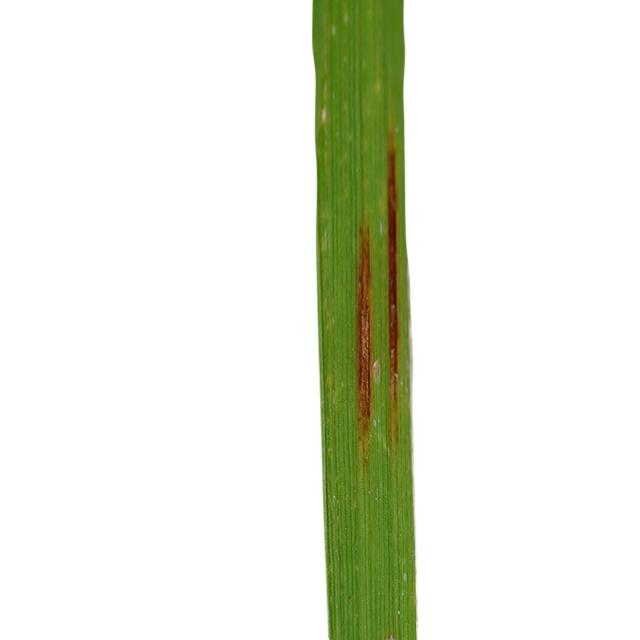Narrow brown: (296, 1, 454, 640)
